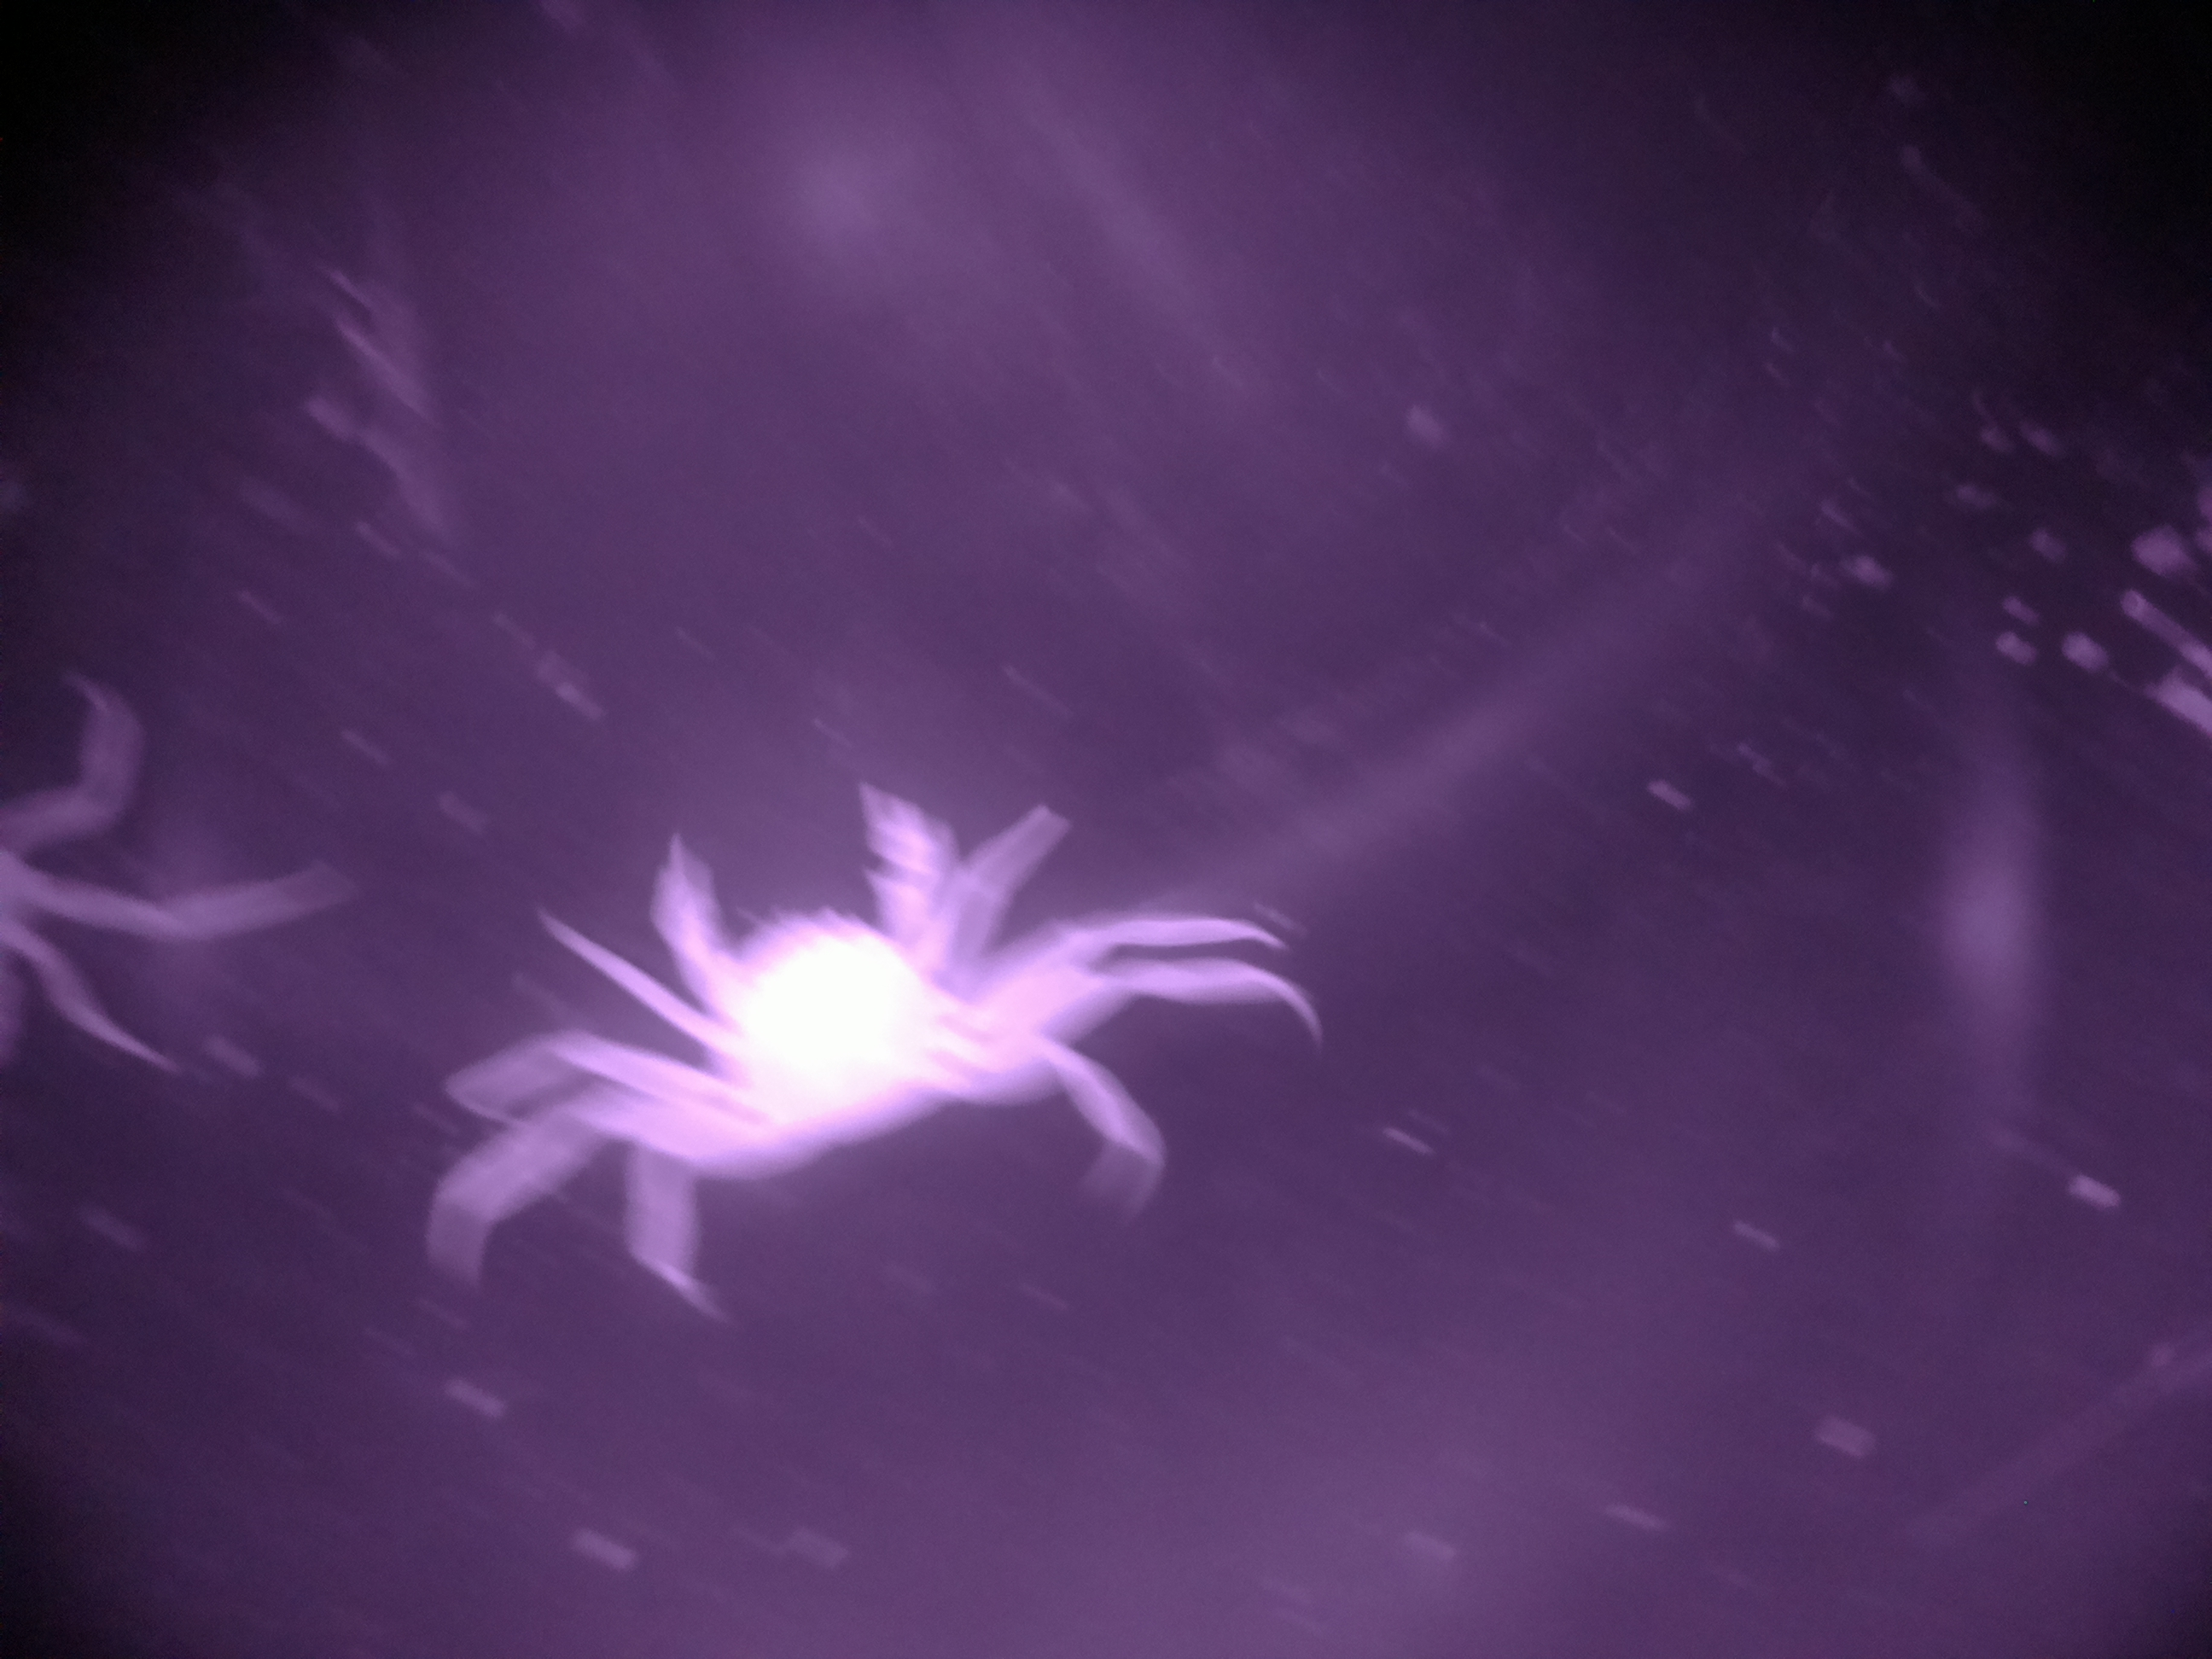Crab: (528, 871, 1080, 1241)
